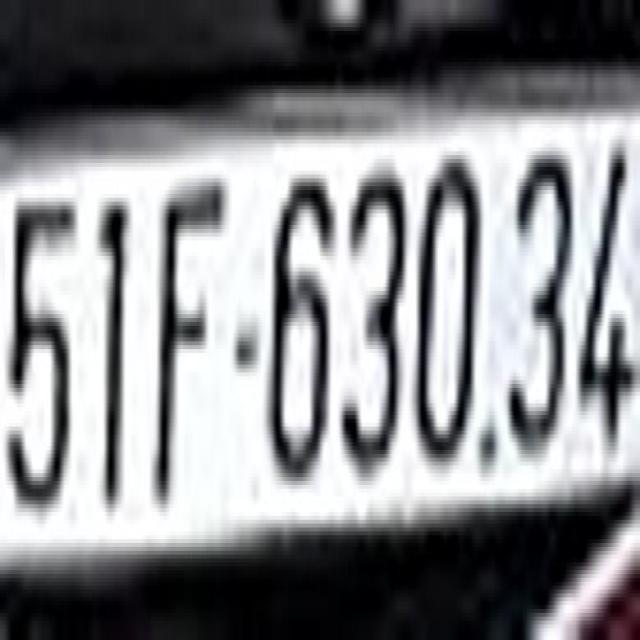0: (413, 143, 481, 481)
1: (97, 170, 128, 528)
3: (507, 143, 575, 470), (341, 163, 406, 485)
4: (578, 136, 639, 462)
5: (12, 182, 76, 516)
6: (268, 159, 336, 493)
F: (151, 163, 226, 500)
